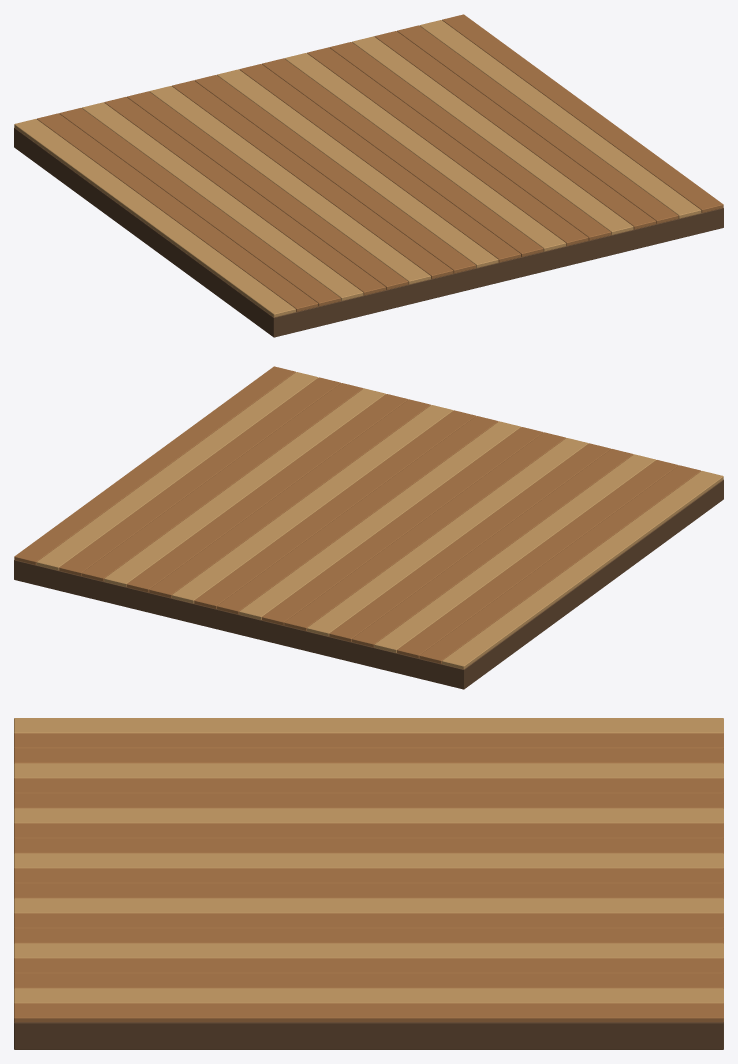
The model's file is b21_floor_timber_4x4m.glb.
3 renders of one model, top to bottom at view 1: azimuth 30°, elevation 25°; view 2: azimuth 150°, elevation 25°; view 3: azimuth 270°, elevation 25°, orthographic. The views are drawn at different scales.
Visible parts, largest first — view 1: b21_floor_timber_4x4m; view 2: b21_floor_timber_4x4m; view 3: b21_floor_timber_4x4m.
Boxes of the visible parts, bbox=[...] form: b21_floor_timber_4x4m: bbox=[14, 14, 723, 337]; b21_floor_timber_4x4m: bbox=[14, 366, 723, 689]; b21_floor_timber_4x4m: bbox=[14, 718, 723, 1049].
Bounding box in the file's own units: 4 × 0.2 × 4.
